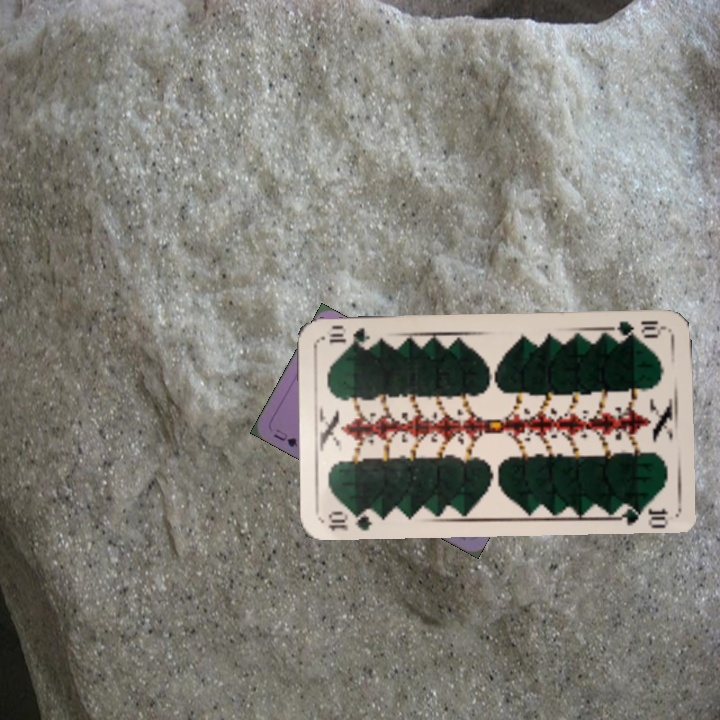G10: (608, 316, 667, 342), (324, 506, 375, 534)
GU: (269, 425, 300, 450)
